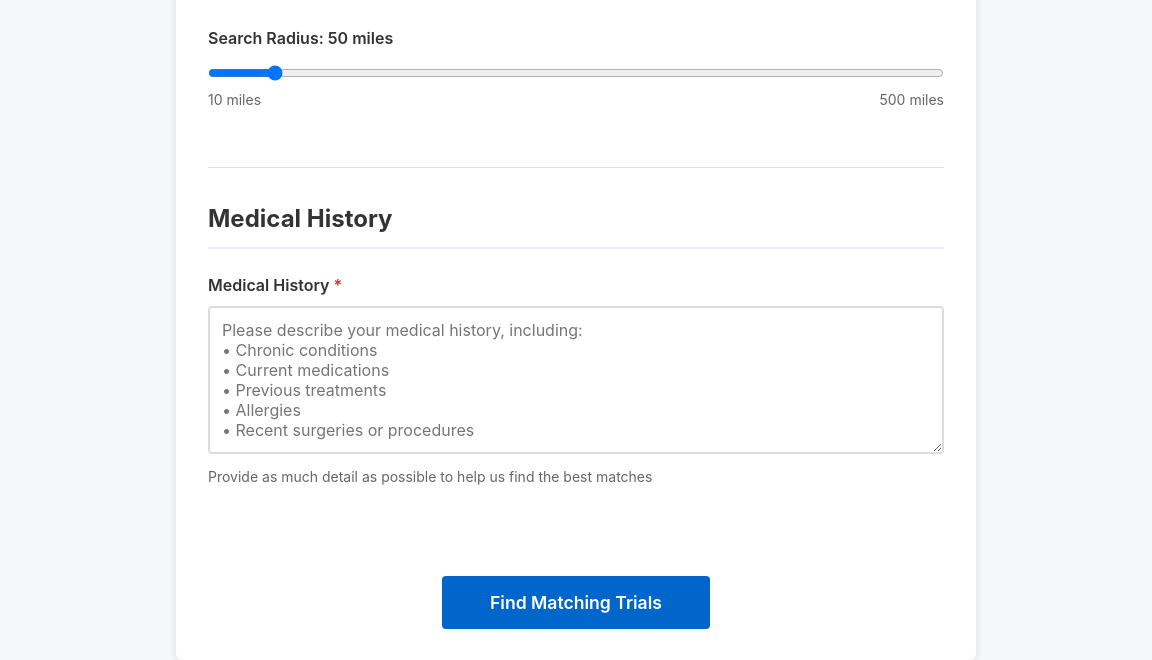
Scenario: PatientProfileForm › Form Validation - Required Fields › shows error when age is not provided
This screenshot has width=1152, height=660.
(page scrolled)
Click the button "Find Matching Trials" at x=576, y=603, box [442,576,710,629]
(page scrolled)
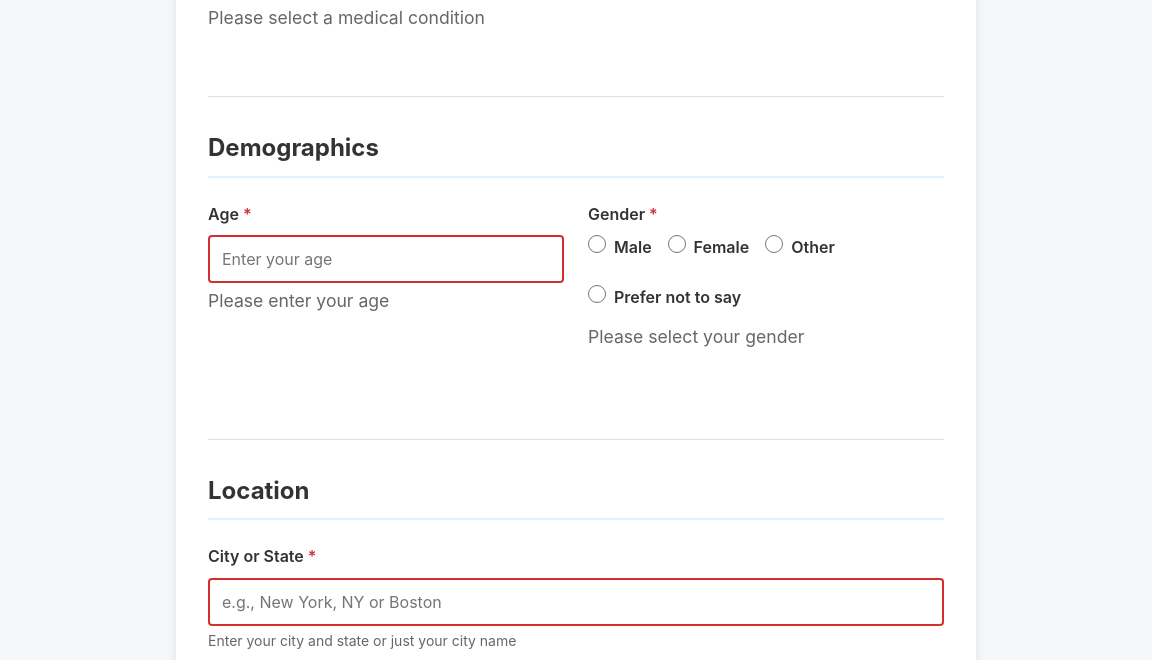
Result: the text "Please enter your age" is shown at [208,290,389,311]
